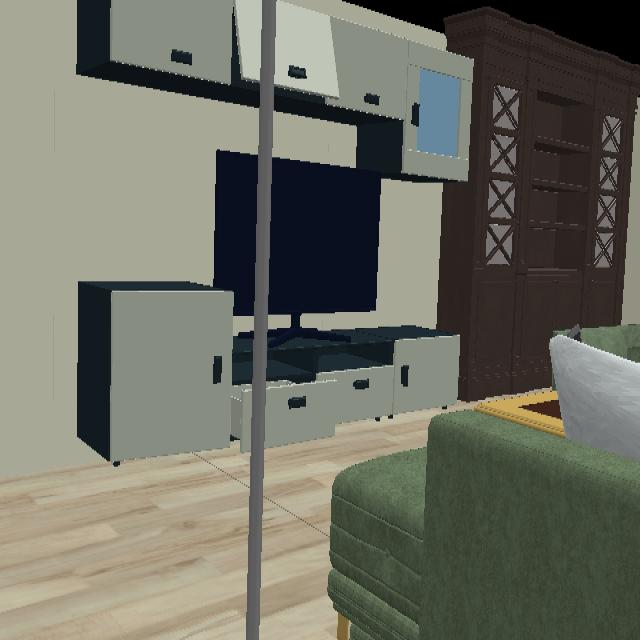cabinet: (276, 0, 467, 183), (76, 281, 253, 465), (263, 327, 459, 449), (76, 0, 263, 108)
monitor: (268, 157, 381, 348), (213, 151, 258, 317)
pillow: (548, 335, 640, 464)
sofa: (326, 411, 640, 640), (575, 325, 640, 364)
table: (458, 389, 562, 435)
